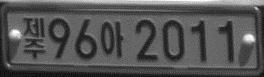0: (161, 19, 185, 61)
1: (189, 18, 208, 63), (217, 18, 235, 65)
2: (134, 18, 159, 62)
6: (73, 18, 98, 60)
9: (47, 16, 70, 59)
아: (100, 19, 124, 59)
제주_V: (22, 15, 47, 61)
